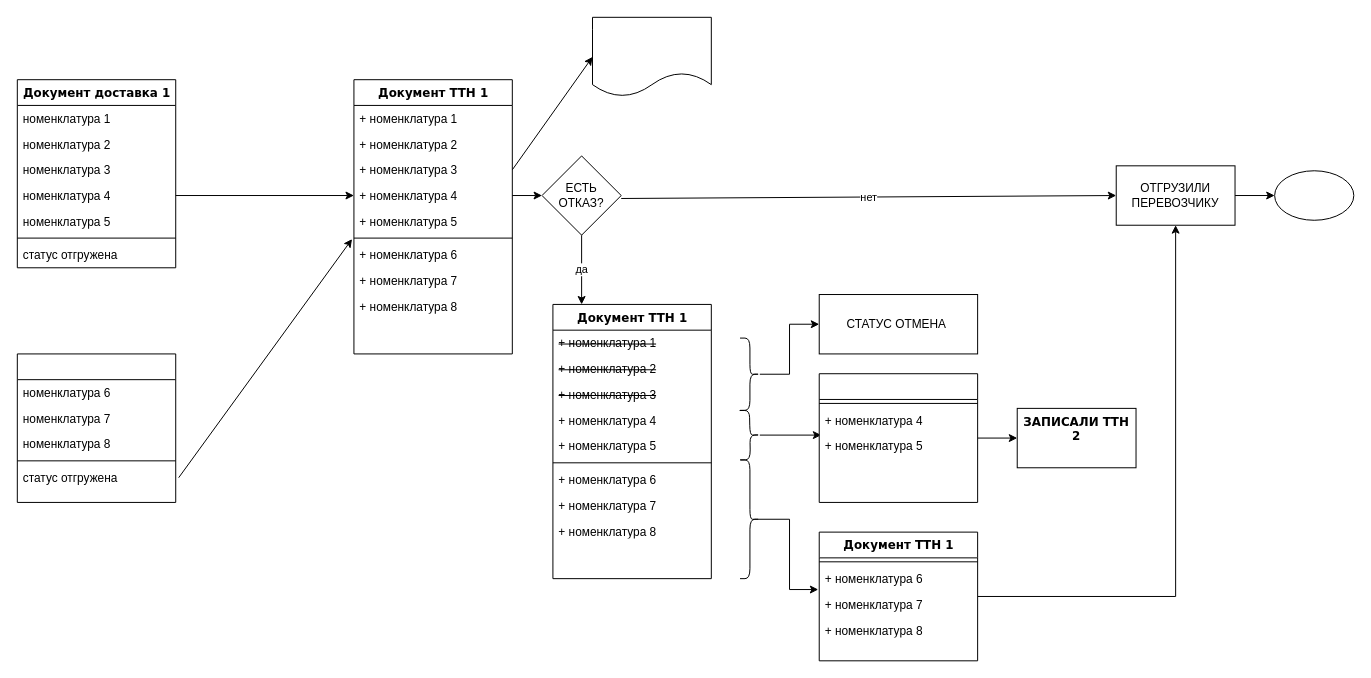
This 1371x678 diagram has some shape labels left out. Here are the shapes that lost their labels. From the top down, the box of each, then its label:
(592, 16, 711, 97): ЗАПИСАЛИ ТТН В ДОСТАВКИ 1 и 2
(1274, 170, 1354, 220): ИДЕМ ПО ПРОЦЕССУ
(16, 353, 176, 502): Документ доставка 2
(818, 373, 978, 502): Документ ТТН 2
